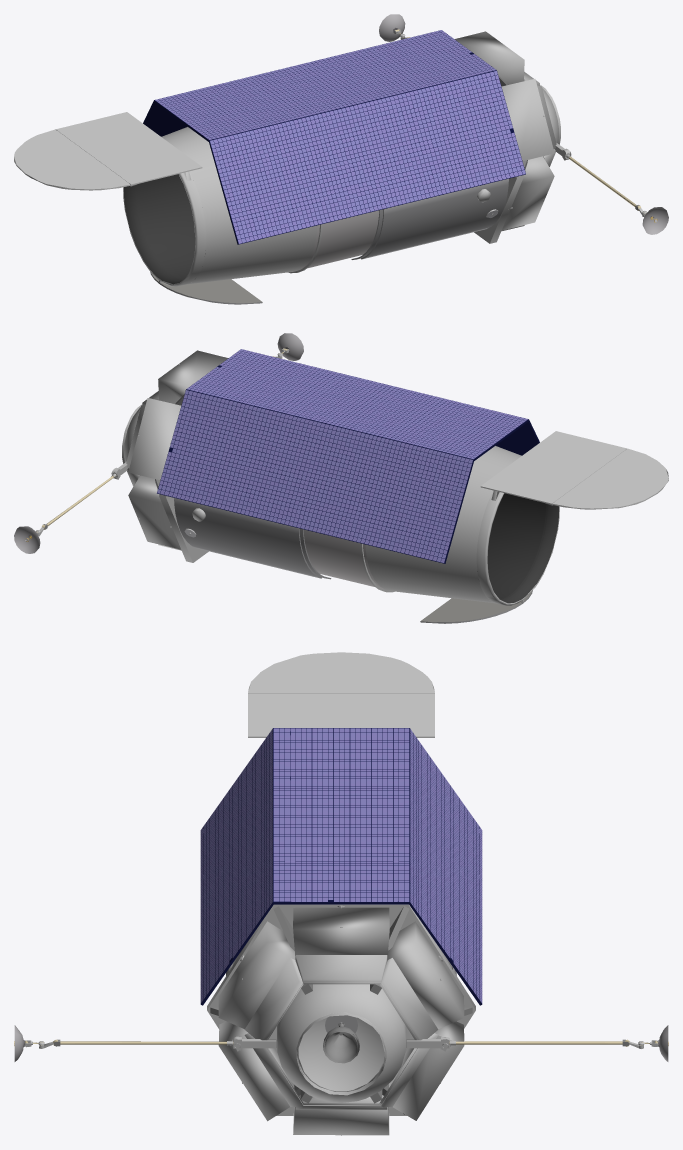
File: roman.glb
The picture shows the model from 3 angles, top to bottom: view 1: azimuth 30°, elevation 25°; view 2: azimuth 150°, elevation 25°; view 3: azimuth 270°, elevation 25°; orthographic projection. The views are drawn at different scales.
Parts seen in each view (by area): view 1: Object_4; view 2: Object_4; view 3: Object_4.
Part boxes in pixels (x1,y1,x2,y2): Object_4: (14, 14, 668, 304); Object_4: (14, 333, 668, 623); Object_4: (14, 652, 668, 1135).
Size of the model in its own units: 13.52 by 4.31 by 11.95.
1 material, 1 textured.
